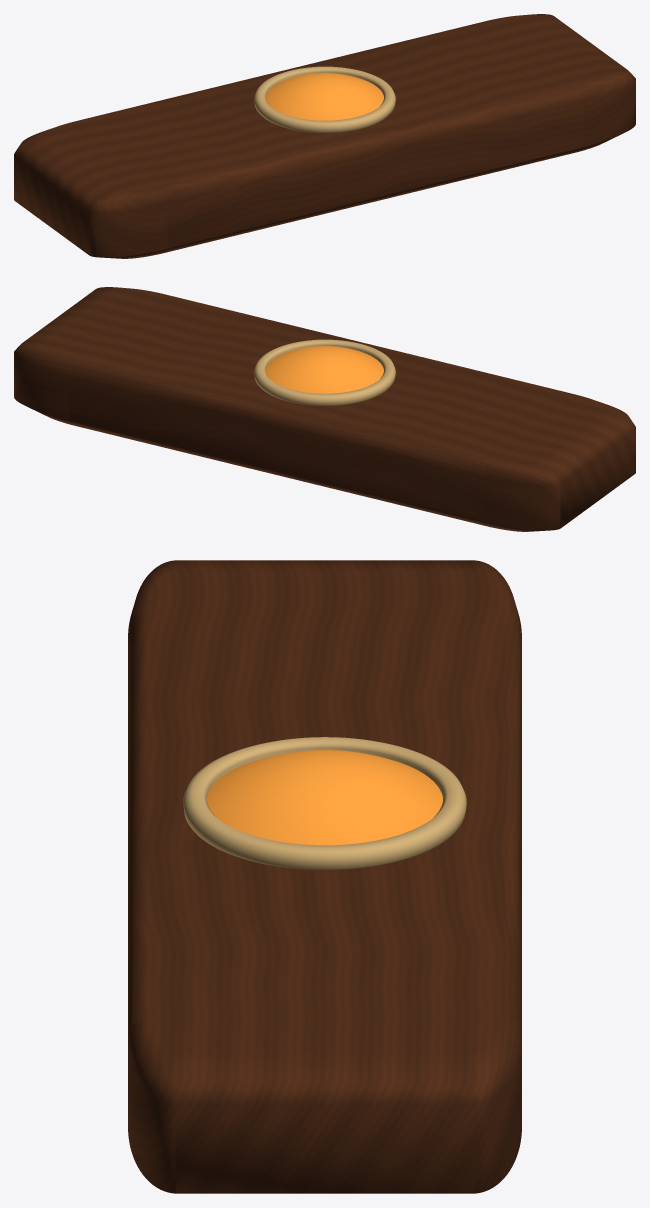
File: lamp_edge.glb
3 views of the same model, one above another, from view 1: azimuth 30°, elevation 25°; view 2: azimuth 150°, elevation 25°; view 3: azimuth 270°, elevation 25° (orthographic). The views are drawn at different scales.
Parts seen in each view (by area): view 1: OakBase, FrostedLens, BrassBezel; view 2: OakBase, FrostedLens, BrassBezel; view 3: OakBase, FrostedLens, BrassBezel.
Boxes of the visible parts, x1,y1,x2,y2 form: OakBase: (14,14,635,258); FrostedLens: (266,73,383,120); BrassBezel: (254,66,395,132); OakBase: (14,287,635,531); FrostedLens: (266,346,383,393); BrassBezel: (254,339,395,405); OakBase: (128,560,521,1193); FrostedLens: (207,750,442,845); BrassBezel: (183,737,466,869).
Size of the model in its own units: 0.128 by 0.0196 by 0.04.
Materials: 3 (2 with a texture image).
